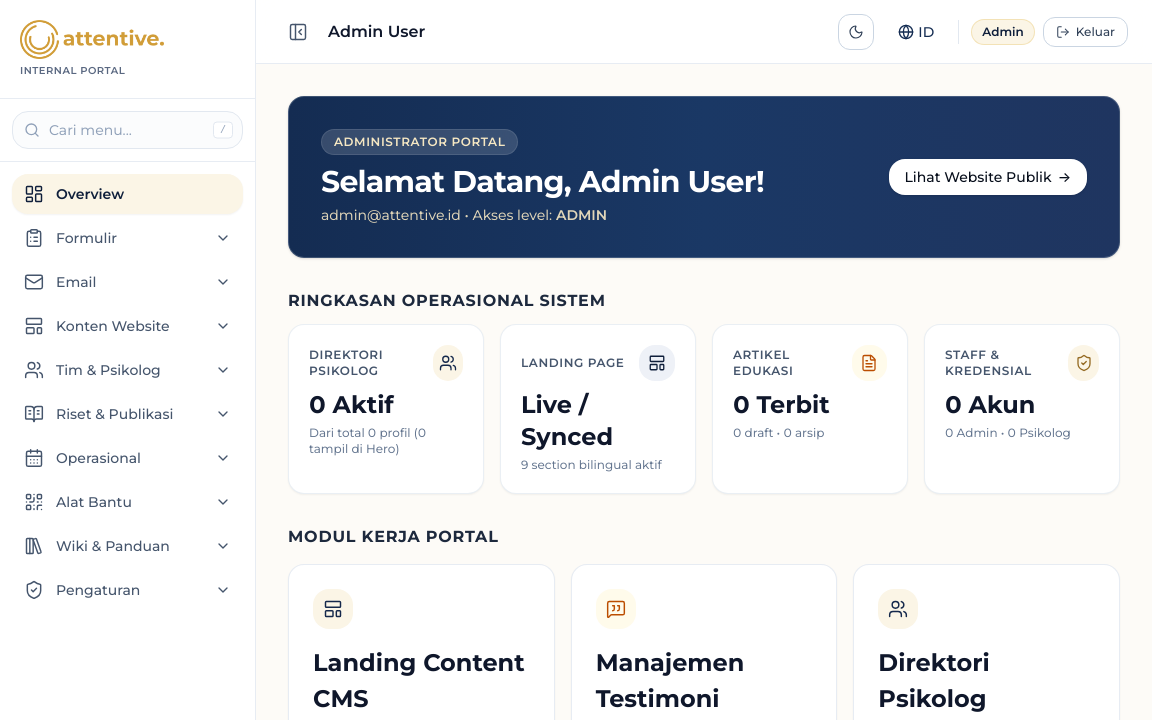
Test case: dashboard sidebar › says so when nothing matches
Expected: the heading "Selamat Datang, Admin User!" is shown, [321,163,764,200]
Type "zzzz" into the dropdown named "cari menu portal" at (128, 130), box [12,111,243,149]
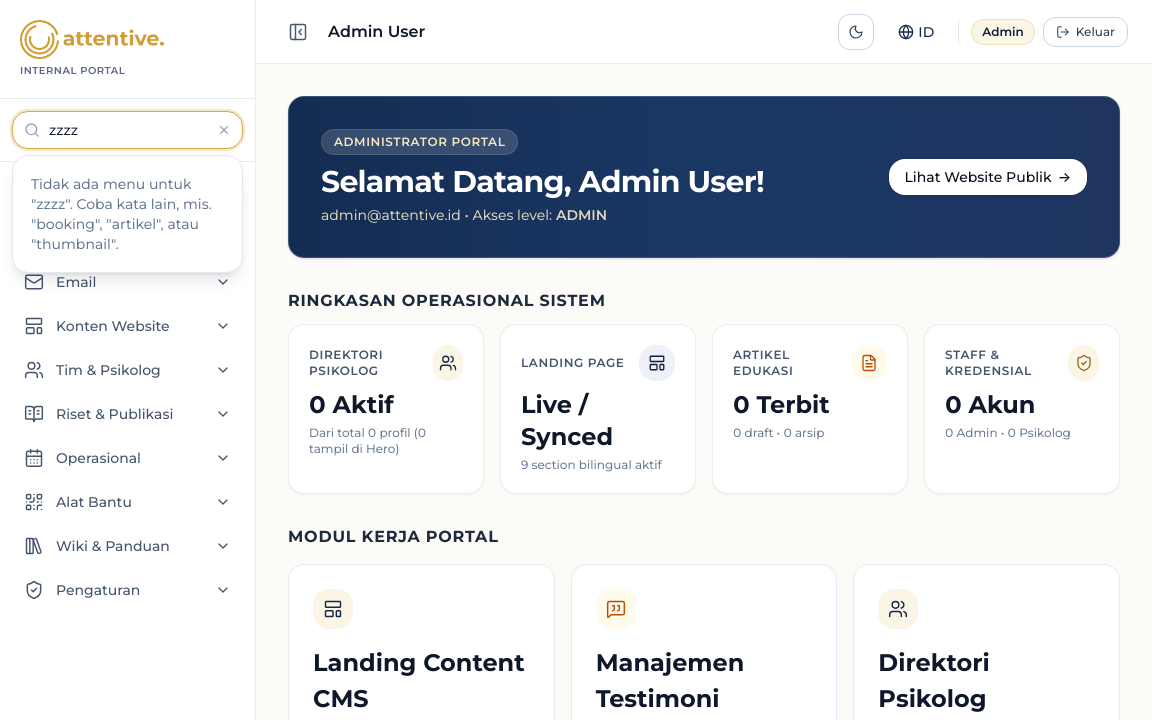
Now the list item "Tidak ada menu untuk" is shown, box [31,175,212,253]
